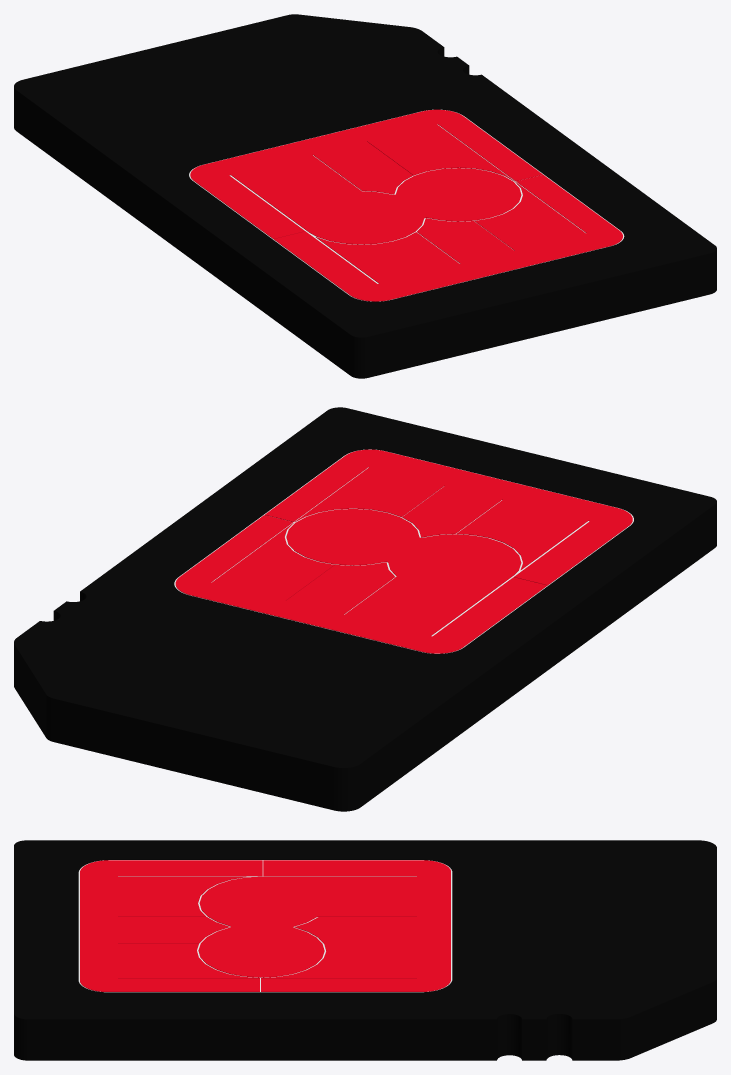
Rendered from chip porta.fbx.
3 views of the same model, one above another, from view 1: azimuth 30°, elevation 25°; view 2: azimuth 150°, elevation 25°; view 3: azimuth 270°, elevation 25° (orthographic). The views are drawn at different scales.
Visible parts, largest first — view 1: chip porta; view 2: chip porta; view 3: chip porta.
Part boxes in pixels (x1,y1,x2,y2): chip porta: (14,14,716,378); chip porta: (14,407,716,811); chip porta: (14,840,716,1060).
Size of the model in its own units: 23.19 by 2.49 by 38.49.
